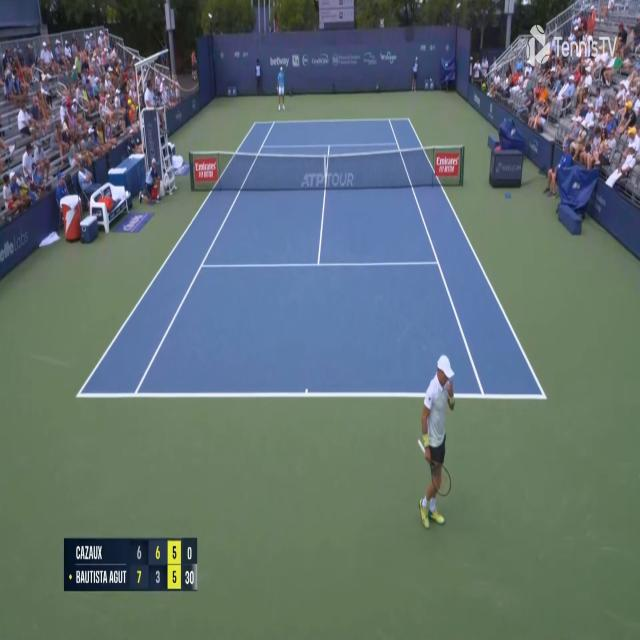tennis-player: (414, 352, 458, 533), (276, 62, 287, 112)
